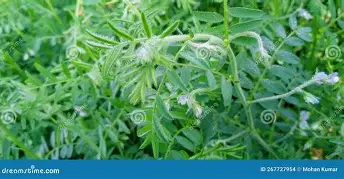crops: (0, 0, 340, 160), (163, 98, 249, 159), (1, 1, 75, 71), (287, 0, 340, 66), (42, 107, 103, 159)
